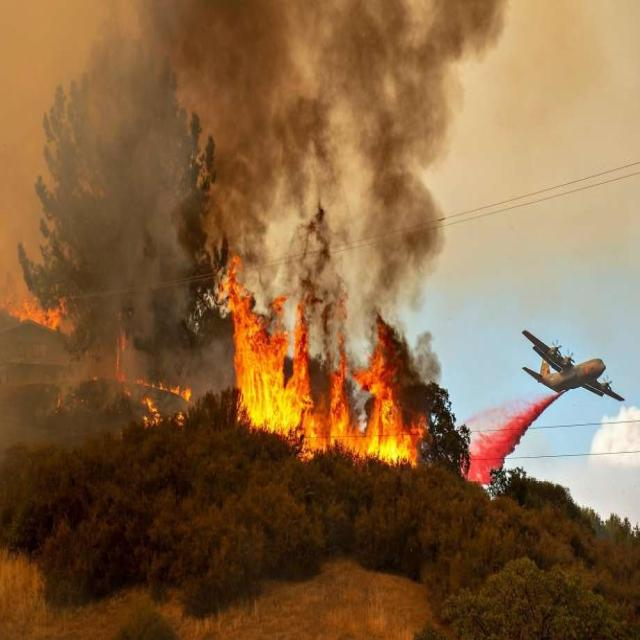fire: (235, 295, 320, 447), (332, 346, 422, 470)
smoke: (204, 18, 416, 195)
